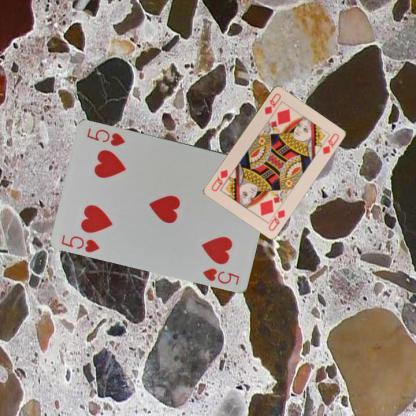5h: (59, 233, 101, 254)
Qd: (265, 202, 287, 232), (262, 90, 282, 116)
